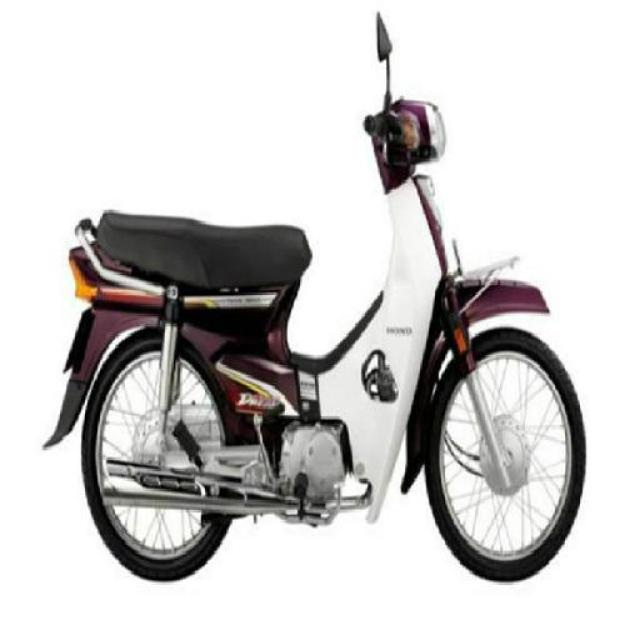All: (45, 90, 600, 585)
Head: (362, 97, 448, 165)
Tail: (67, 210, 135, 270)
